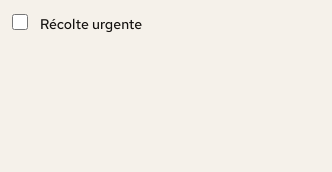
Test: Checkbox › bascule au clic sur le libellé
Step 1. Click the checkbox labelled "Récolte urgente" → (20, 22), box [12, 14, 28, 30]
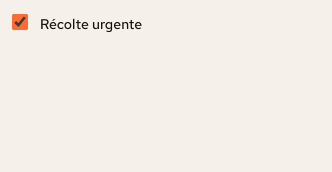
Expected: the checkbox labelled "Récolte urgente" is checked, [12, 14, 28, 30]
